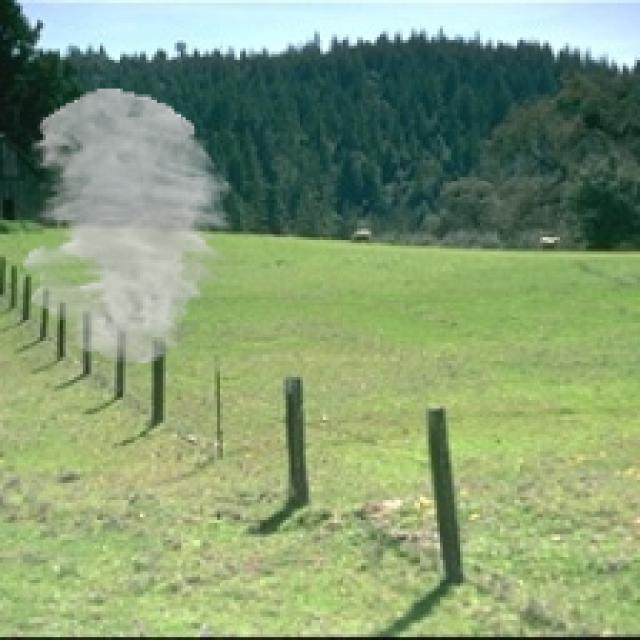Smoke: (23, 88, 234, 363)
